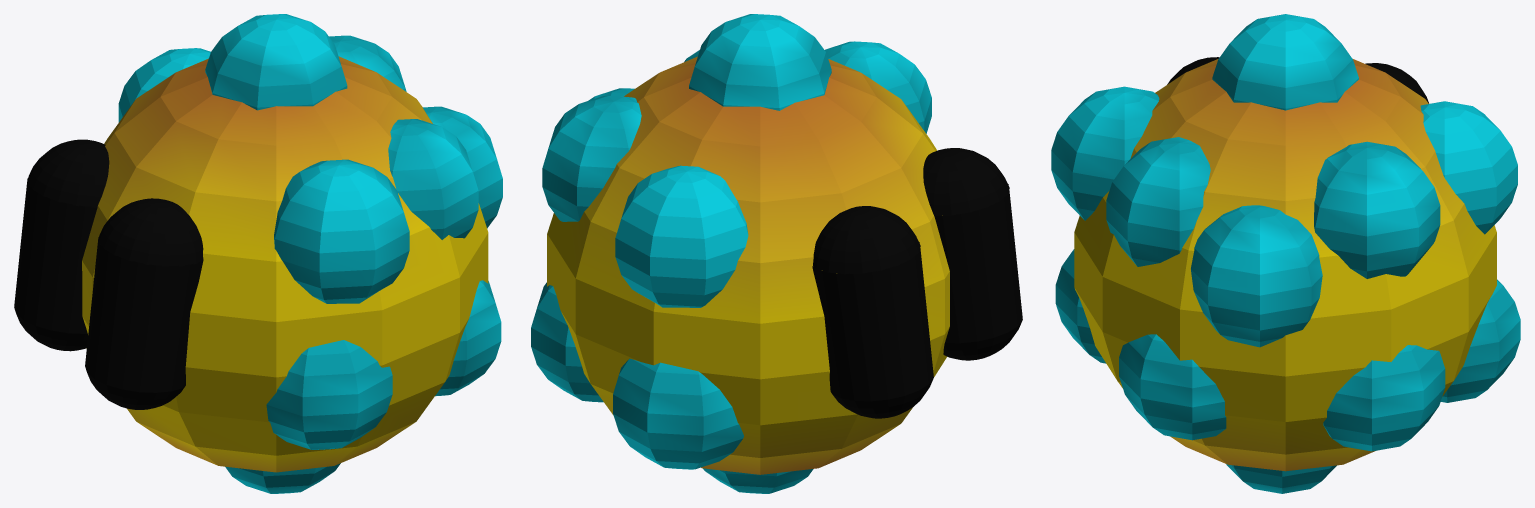
The model's file is bacbac.fbx.
3 views of the same model, side by side, from view 1: azimuth 30°, elevation 25°; view 2: azimuth 150°, elevation 25°; view 3: azimuth 270°, elevation 25° (orthographic).
Visible parts, largest first — view 1: Sphere.002; view 2: Sphere.002; view 3: Sphere.002.
Boxes of the visible parts, left/top/right/bottom form: Sphere.002: left=14, top=14, right=502, bottom=493; Sphere.002: left=531, top=14, right=1022, bottom=493; Sphere.002: left=1051, top=14, right=1520, bottom=493.
Bounding box in the file's own units: 2.87 × 3.01 × 2.75.
